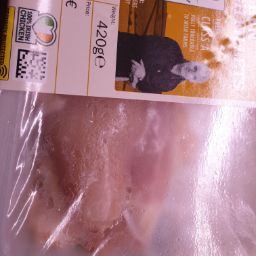Chicken Thigh Fillets: (39, 97, 179, 256)
